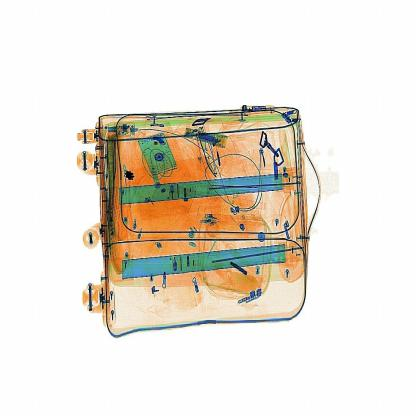pliers: (197, 166, 271, 200)
